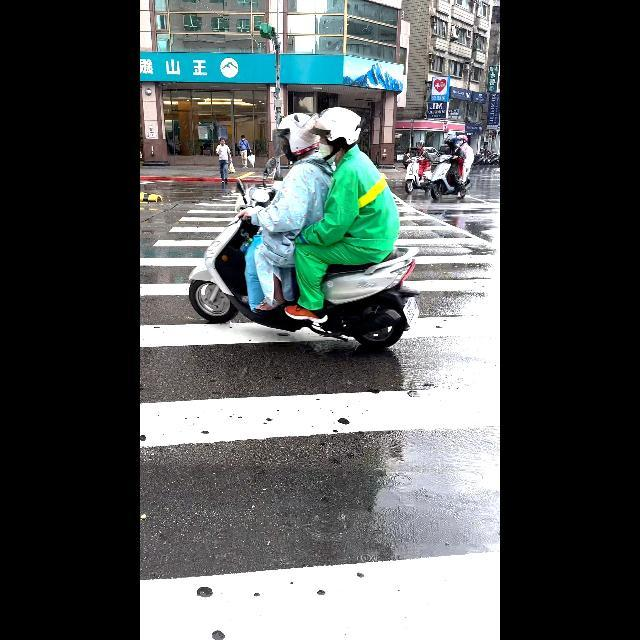sidewalk: (142, 176, 500, 640)
